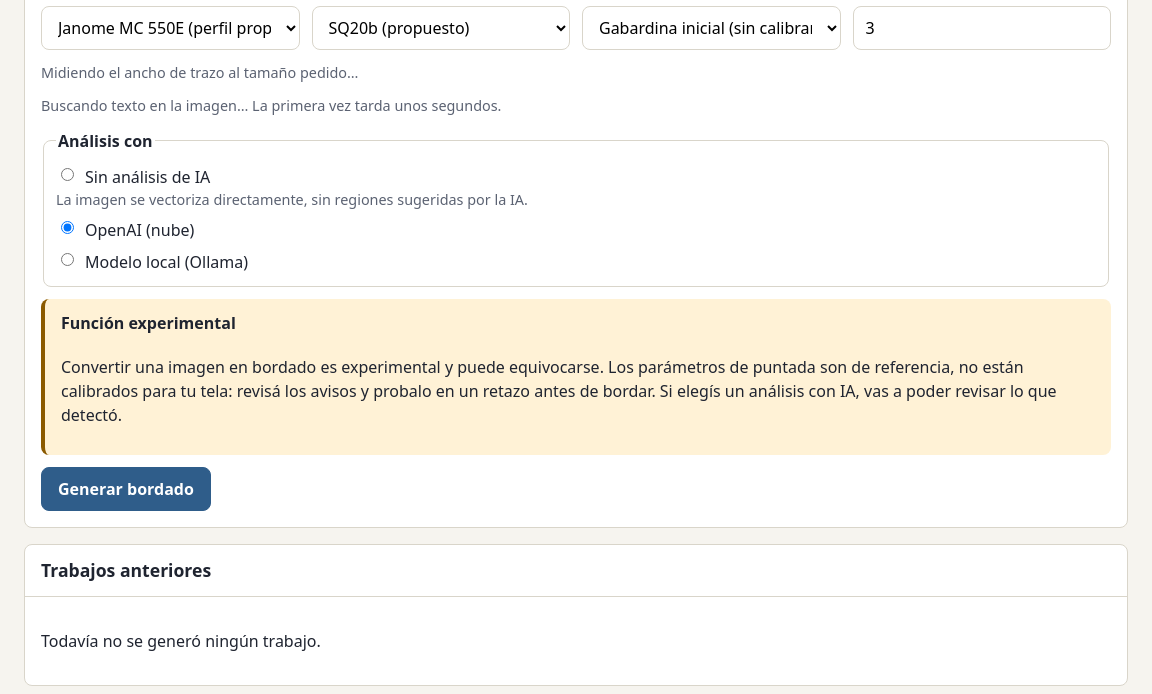
Test: muestra física (POST /sewouts) › el formulario solo aparece con el trabajo en ready_for_sewout
The width and height of the screenshot is (1152, 694).
Earlier steps of the test are not shown.
(page scrolled)
Click the button "Generar bordado" at (126, 490), box [41, 468, 211, 512]
Wait 8000 ms
(page scrolled)
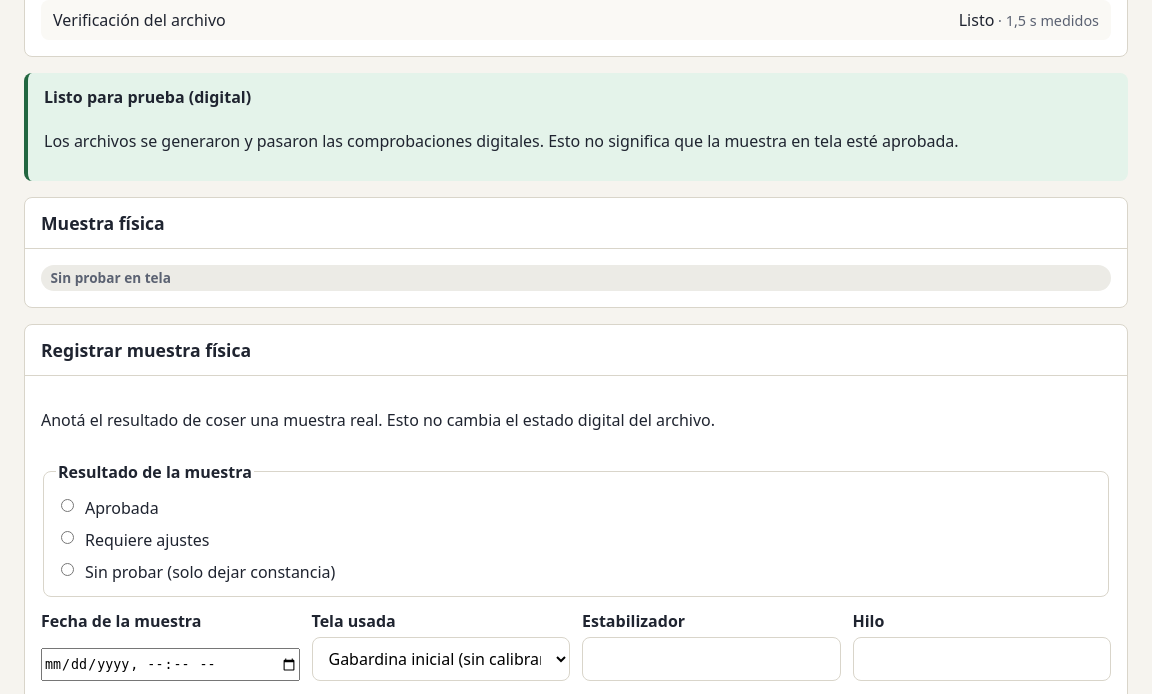
expect the heading "Registrar muestra física" is shown: met, box [25, 325, 1127, 376]
